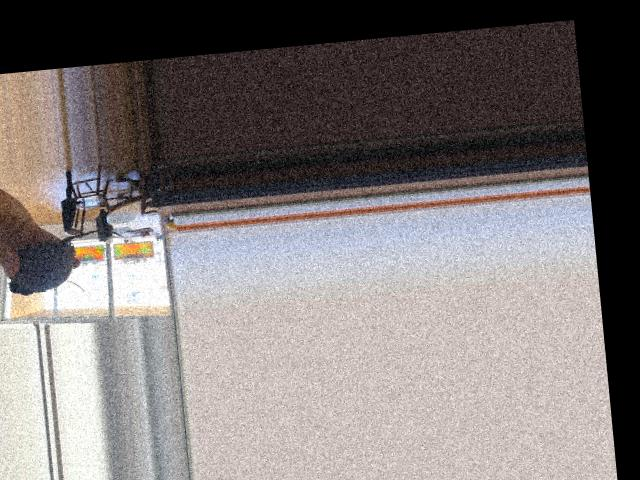beet: (5, 227, 128, 297)
